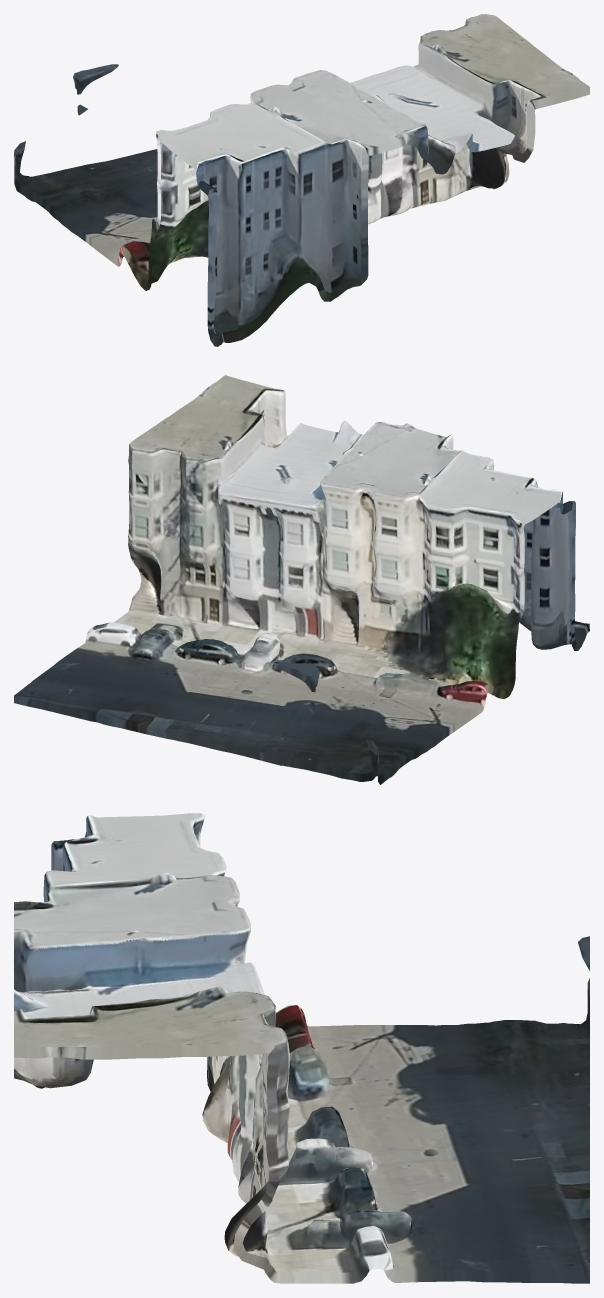
File: z20-167724-405193-h0-yup-uvflip-v3-world.glb
3 renders of one model, top to bottom at view 1: azimuth 30°, elevation 25°; view 2: azimuth 150°, elevation 25°; view 3: azimuth 270°, elevation 25°, orthographic. The views are drawn at different scales.
Bounding box in the file's own units: 30.2 × 14.72 × 30.32.
1 material, 1 textured.
